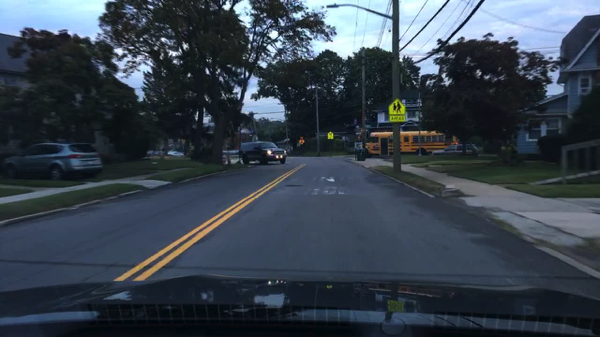bus: (352, 131, 459, 156)
car: (1, 142, 102, 183), (237, 143, 288, 166), (432, 143, 478, 156), (481, 140, 518, 155), (166, 149, 185, 155), (154, 149, 167, 157), (146, 151, 154, 157)
traffic sign: (387, 100, 406, 123), (327, 131, 334, 140), (300, 137, 304, 145)
